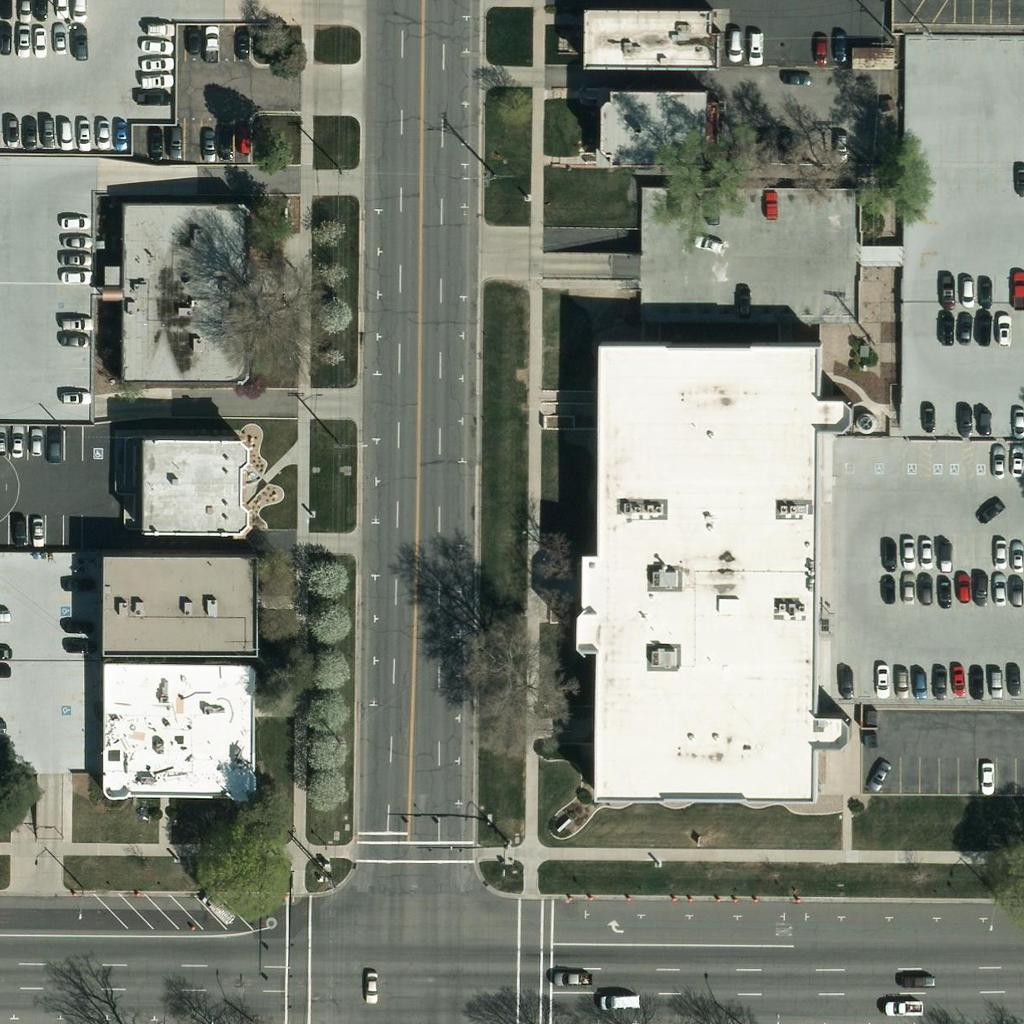car: (141, 11, 175, 45), (6, 23, 40, 57), (41, 23, 75, 57), (22, 24, 56, 58), (63, 25, 97, 59), (175, 25, 209, 59), (196, 25, 230, 59), (225, 26, 259, 60), (139, 28, 173, 62), (717, 28, 751, 62), (738, 28, 772, 62), (821, 28, 855, 62), (803, 32, 837, 66), (141, 46, 175, 80), (777, 61, 811, 95), (140, 63, 174, 97), (141, 79, 175, 113), (12, 117, 46, 151), (31, 117, 65, 151), (65, 117, 99, 151), (87, 117, 121, 151), (103, 117, 137, 151), (225, 118, 259, 152), (48, 119, 82, 153), (137, 124, 171, 158), (207, 124, 241, 158), (825, 125, 859, 159), (158, 126, 192, 160), (745, 126, 779, 160), (189, 127, 223, 161), (766, 128, 800, 162), (695, 186, 729, 220), (753, 188, 787, 222), (57, 203, 91, 237), (57, 224, 91, 258), (691, 226, 725, 260), (56, 240, 90, 274), (59, 259, 93, 293), (930, 274, 964, 308), (967, 275, 1001, 309), (949, 276, 983, 310), (726, 280, 760, 314), (58, 306, 92, 340), (965, 308, 999, 342), (929, 312, 963, 346), (947, 313, 981, 347), (984, 315, 1018, 349), (985, 315, 1019, 349), (57, 322, 91, 356), (56, 380, 90, 414), (909, 399, 943, 433), (947, 404, 981, 438), (965, 406, 999, 440), (19, 426, 53, 460), (37, 429, 71, 463), (980, 446, 1014, 480), (973, 494, 1007, 528), (21, 512, 55, 546), (1, 514, 35, 548), (890, 535, 924, 569), (982, 535, 1016, 569), (928, 536, 962, 570), (872, 537, 906, 571), (907, 537, 941, 571), (63, 566, 97, 600), (963, 568, 997, 602), (870, 570, 904, 604), (945, 571, 979, 605), (889, 572, 923, 606), (907, 572, 941, 606), (926, 573, 960, 607), (982, 574, 1016, 608), (61, 609, 95, 643), (61, 625, 95, 659), (863, 660, 897, 694), (828, 664, 862, 698), (883, 664, 917, 698), (921, 664, 955, 698), (939, 664, 973, 698), (900, 665, 934, 699), (958, 665, 992, 699), (977, 665, 1011, 699), (860, 759, 894, 793), (968, 759, 1002, 793), (197, 885, 231, 919), (554, 962, 588, 996), (898, 964, 932, 998), (351, 966, 385, 1000), (604, 984, 638, 1018), (883, 989, 917, 1023), (0, 425, 33, 459), (0, 114, 28, 148), (996, 660, 1024, 694), (999, 442, 1024, 476), (999, 540, 1024, 574), (999, 575, 1024, 609), (22, 0, 56, 24), (7, 0, 41, 23), (63, 0, 97, 23), (0, 21, 22, 55), (1002, 406, 1024, 440), (44, 0, 78, 21), (1003, 272, 1024, 306), (1004, 160, 1024, 194), (0, 0, 21, 17)
